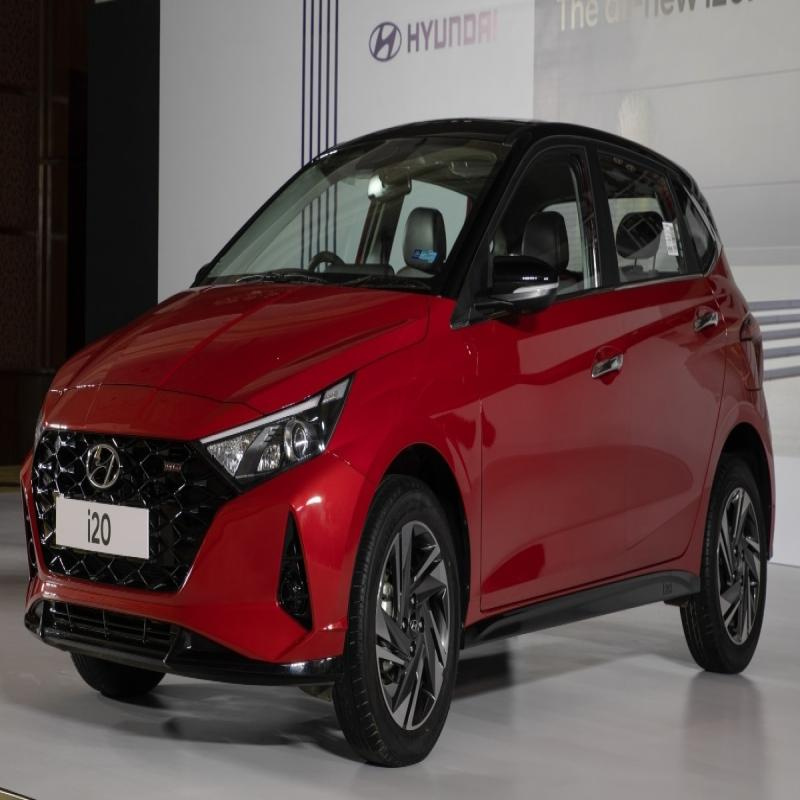car: (10, 94, 770, 762)
